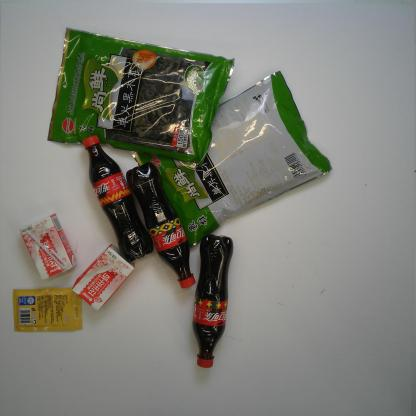Dried Food: (131, 69, 334, 252), (46, 26, 236, 167)
Drink: (82, 134, 155, 261), (126, 162, 196, 289), (191, 233, 234, 369)
Milk: (71, 243, 136, 312), (19, 213, 78, 281)
Seasoner: (12, 286, 83, 332)
